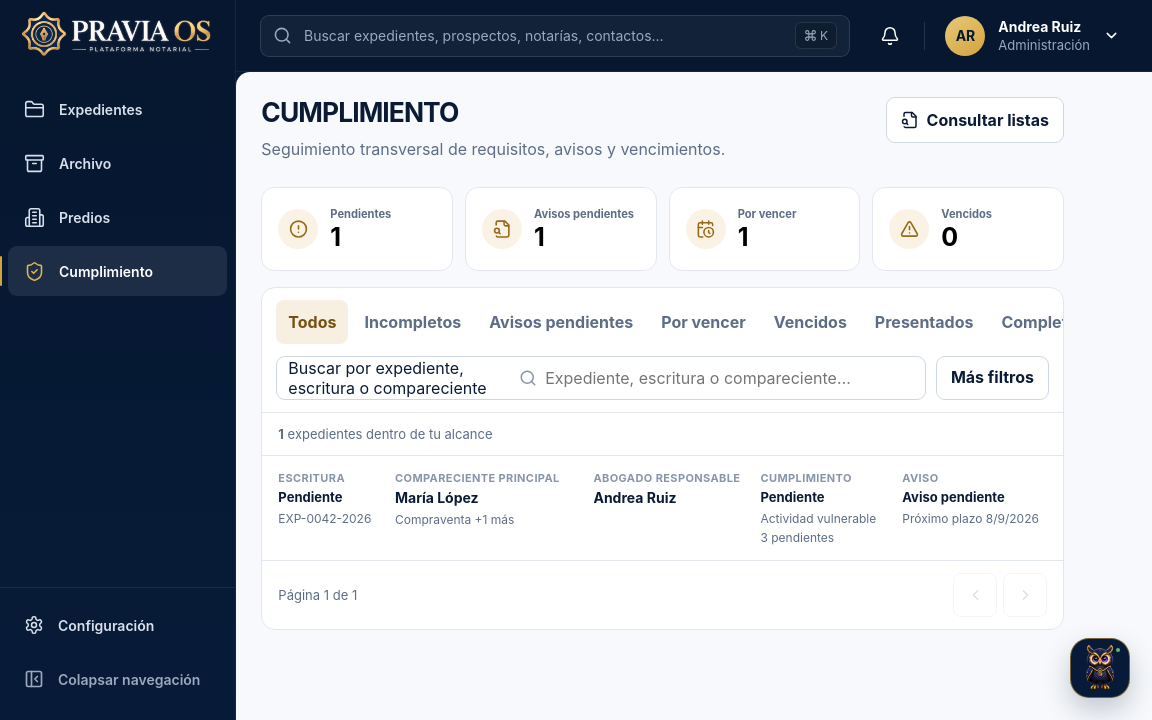
H8 CUM-001 central panel › reuses free H3 lookup for PF/PM and marks approximate results for human review
This screenshot has width=1152, height=720.
Click the button "Consultar listas" at point(975, 120), box [886,97,1064,143]
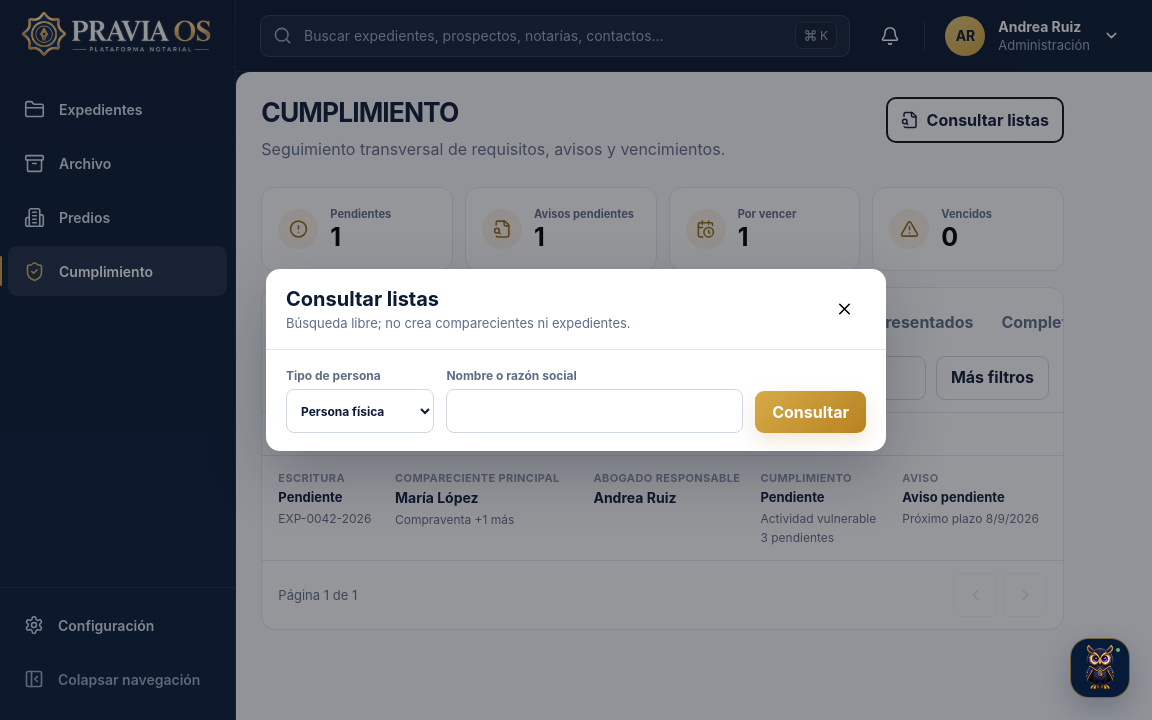
Now the text "Búsqueda libre; no crea comparecientes ni expedientes." is shown, box [286,315,631,331]
Select "Persona moral" in the dropdown labelled "Tipo de persona" at point(360, 411), box [286,389,434,433]
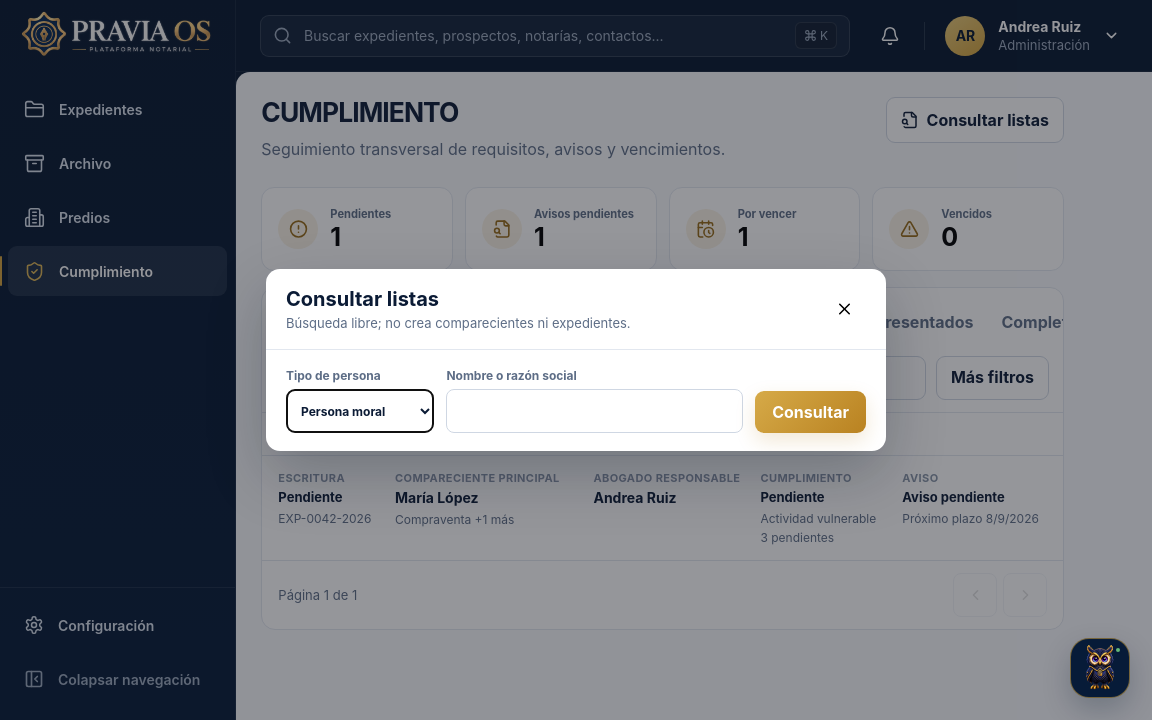
Type "Empresa Ejemplo" into the field labelled "Nombre o razón social" at point(595, 411), box [446,389,743,433]
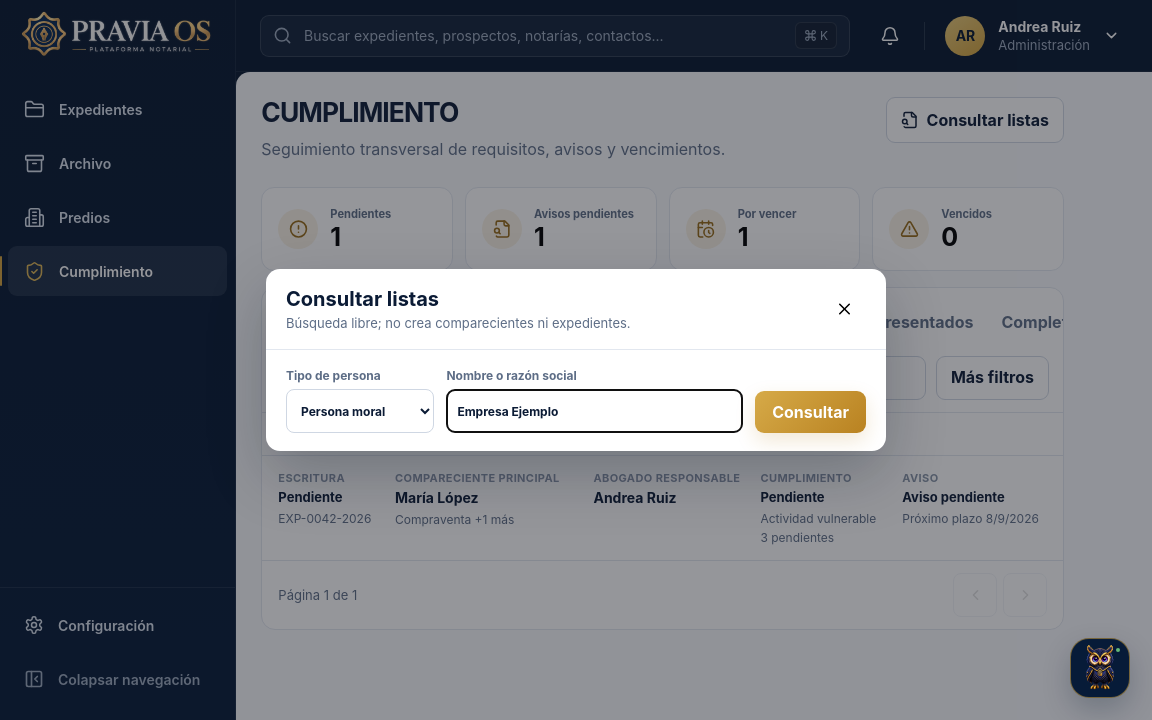
Click the button "Consultar" at point(811, 412), box [755,391,866,433]
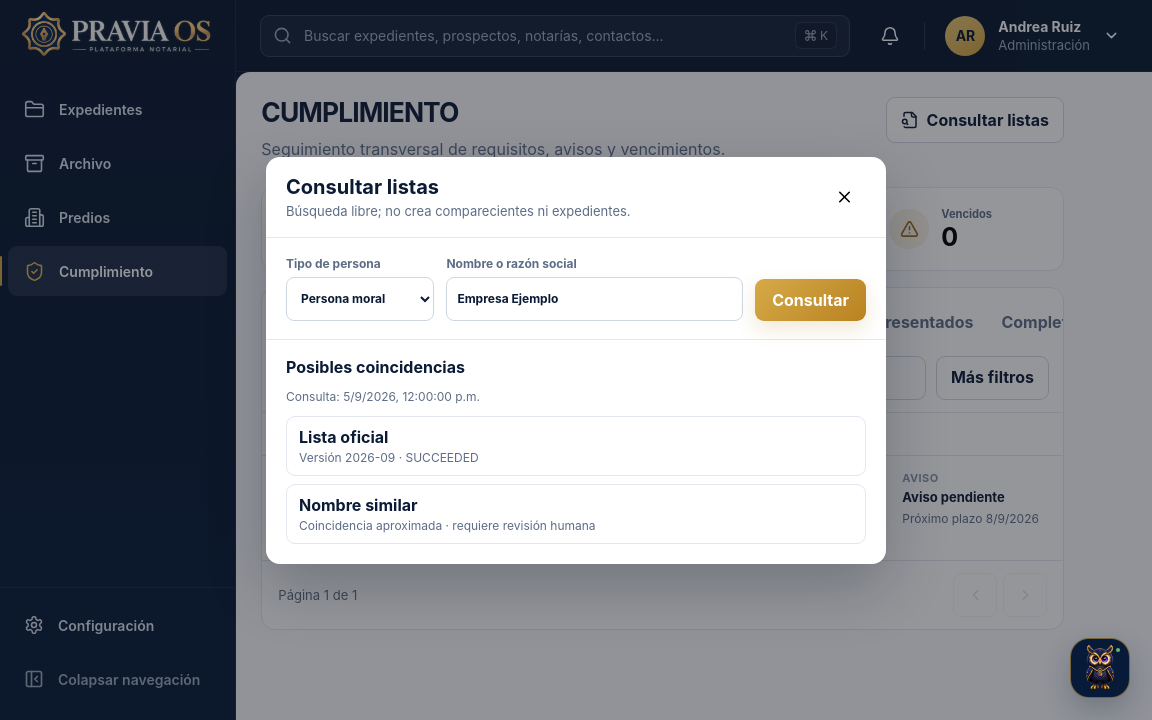
Now the text "Lista oficial" is shown, box [299,426,388,446]
Now the text "Coincidencia aproximada · requiere revisión humana" is shown, box [299,518,596,532]
